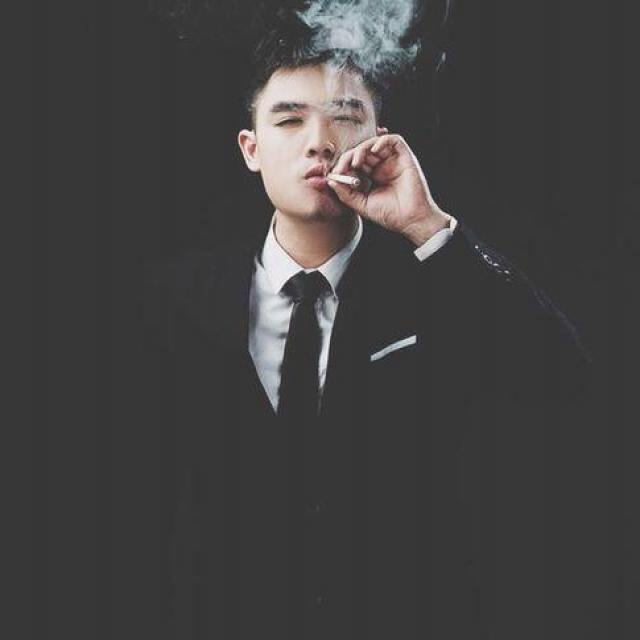Дым: (311, 1, 419, 110)
Сигарета: (327, 171, 358, 189)
Тело: (175, 49, 522, 640)
